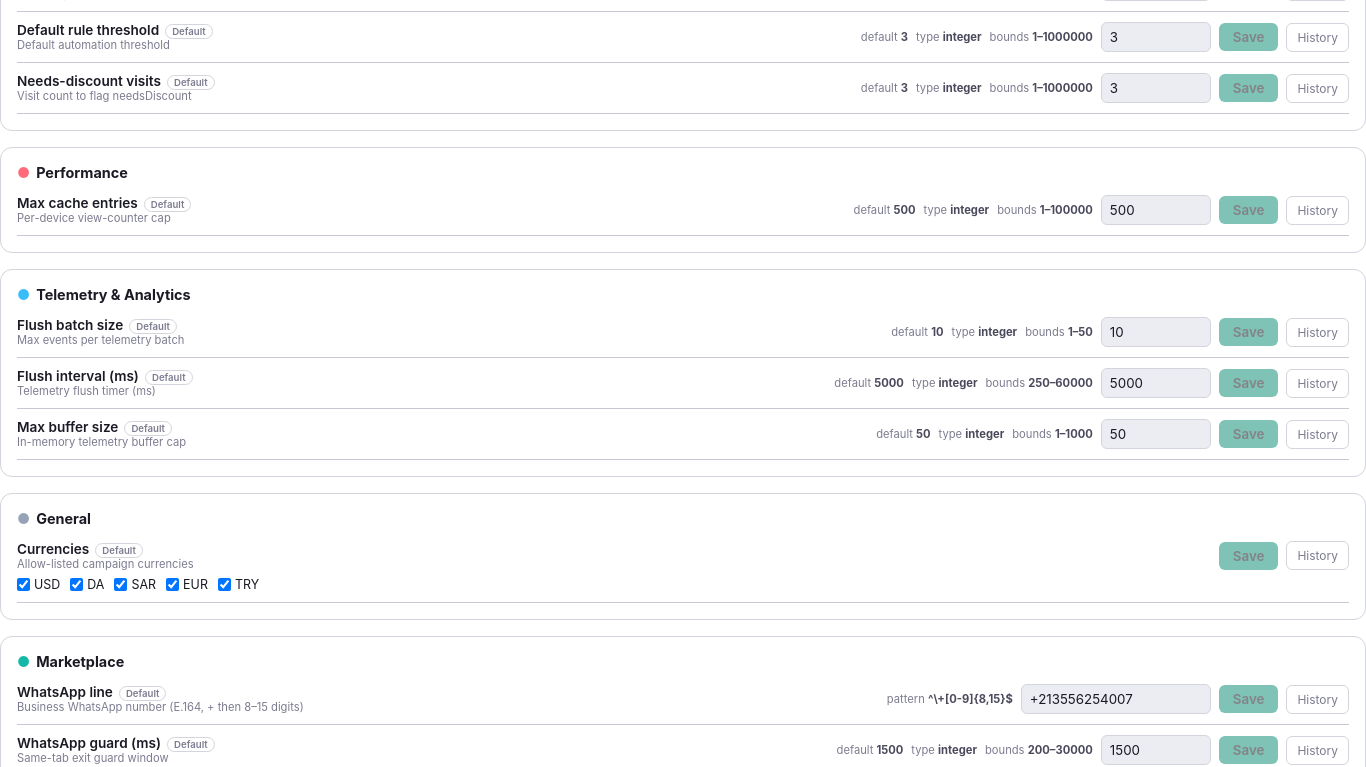
it: AdminSettingsBI › saves a telemetry edit through set_setting with the correct key
(page scrolled)
Expected: the text "Telemetry & Analytics" is shown, [36,286,191,303]
Replace the text in the number field in the row of "250" with "4000" at (1156, 383), box [1101,368,1211,398]
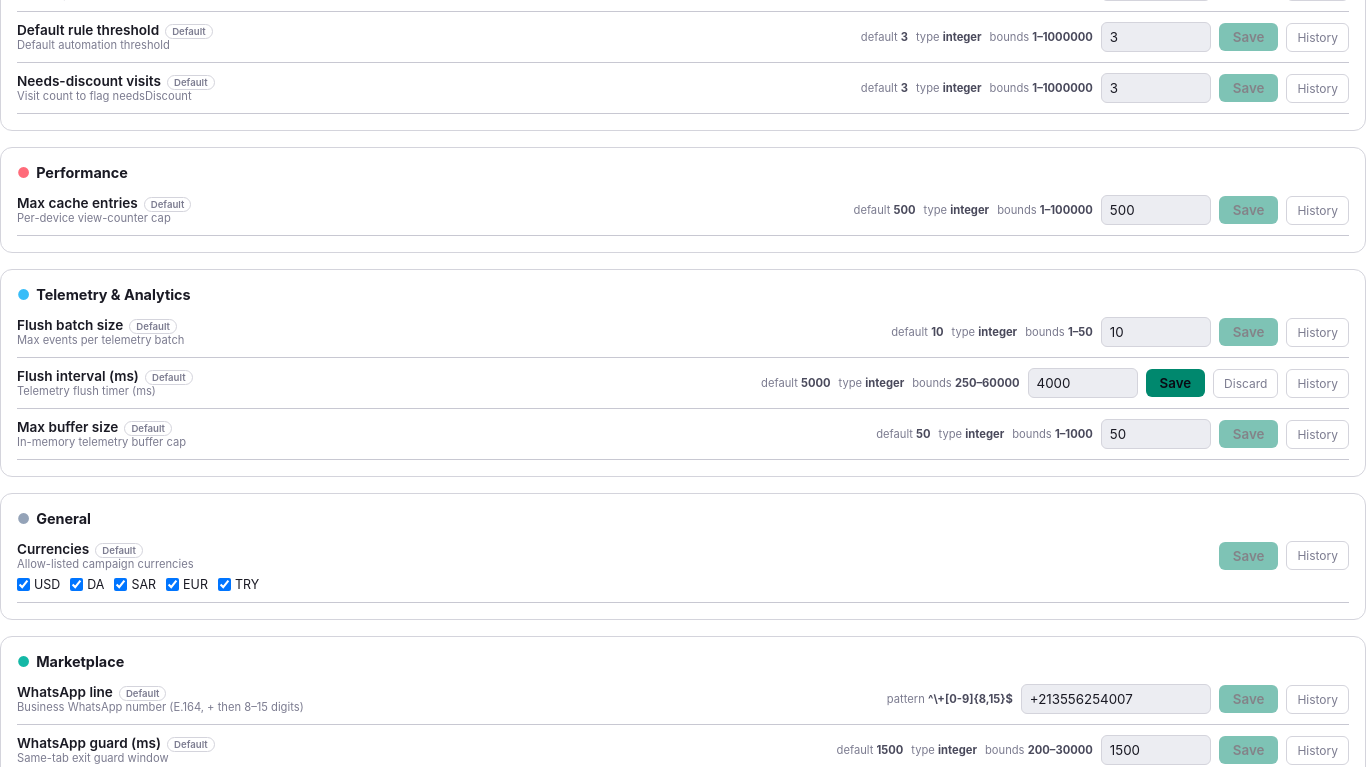
Click the button "Save" in the row of "250" at (1175, 383), box [1146,369,1205,397]
(page scrolled)
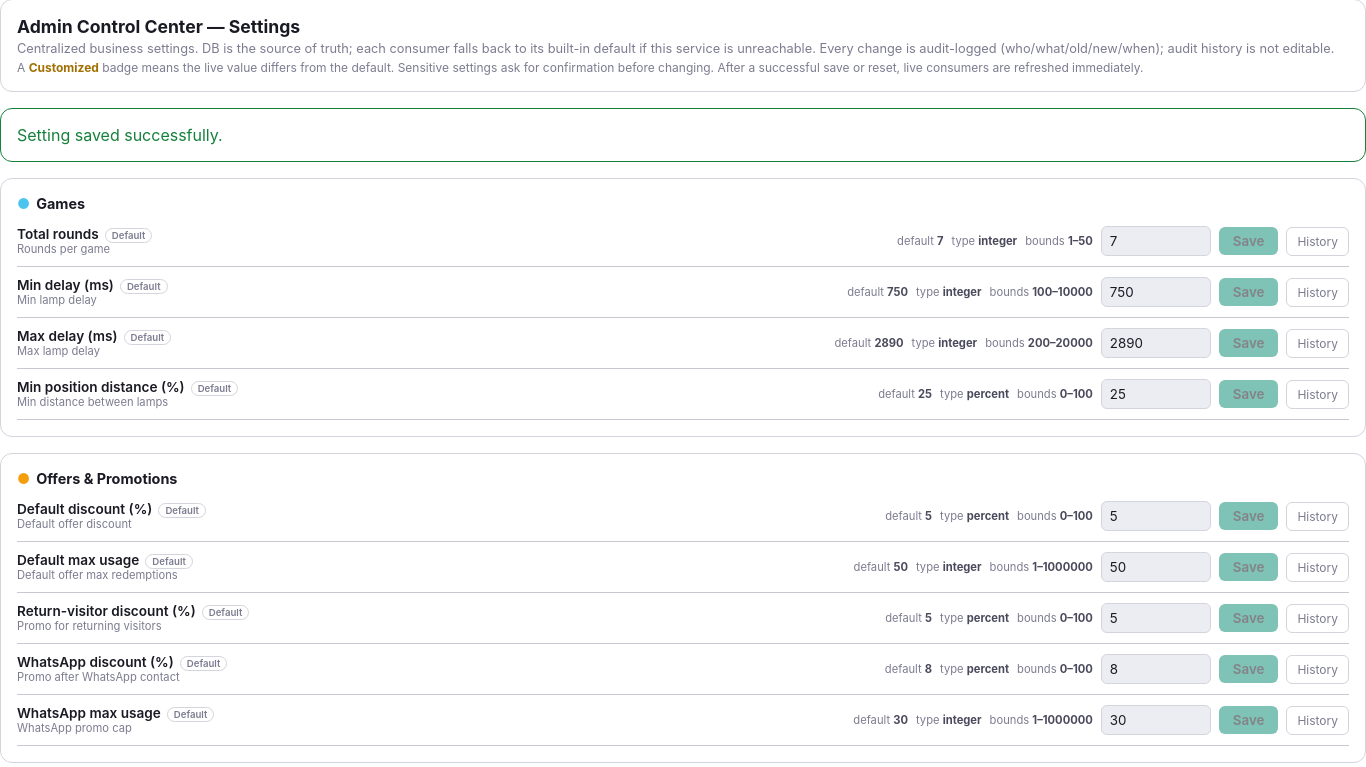
Result: the text "Setting saved successfully." is shown at [0,108,1365,162]
